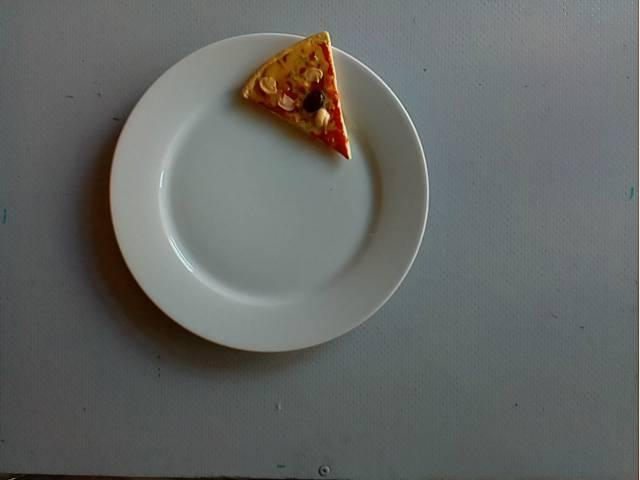Pizza slice (mushroom): (245, 30, 351, 163)
